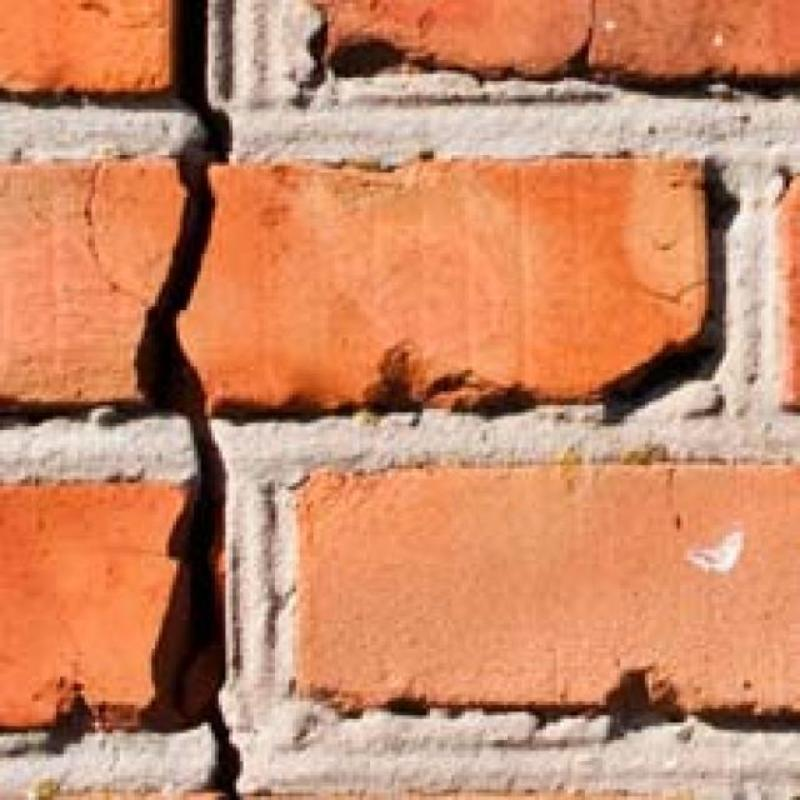crack: (136, 0, 241, 800), (559, 0, 595, 77)
